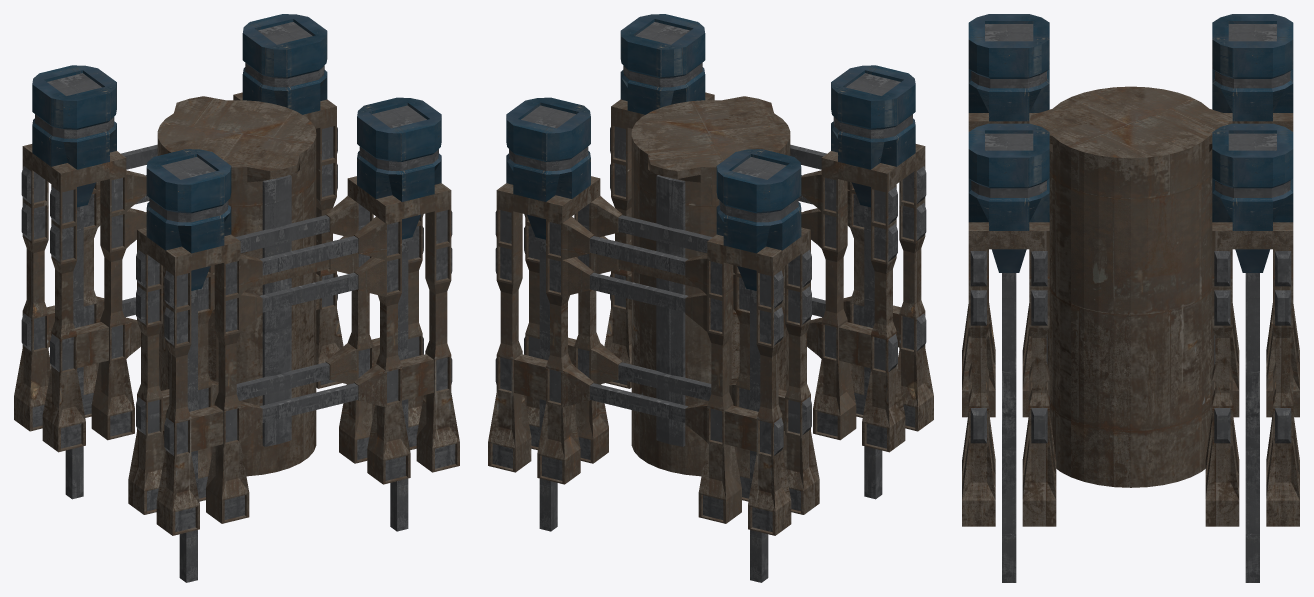
The model's file is Water_Factory.gltf.
3 renders of one model, left to right at view 1: azimuth 30°, elevation 25°; view 2: azimuth 150°, elevation 25°; view 3: azimuth 270°, elevation 25°, orthographic. The views are drawn at different scales.
Parts seen in each view (by area): view 1: Cube, Cylinder; view 2: Cube, Cylinder; view 3: Cube, Cylinder.
Part boxes in pixels (left/top/right/bottom): Cube: left=14, top=14, right=459, bottom=582; Cylinder: left=157, top=96, right=316, bottom=476; Cube: left=488, top=14, right=933, bottom=582; Cylinder: left=631, top=96, right=790, bottom=476; Cube: left=962, top=14, right=1299, bottom=582; Cylinder: left=1029, top=86, right=1232, bottom=487.
Bounding box in the file's own units: 11.55 × 15.84 × 11.04.
